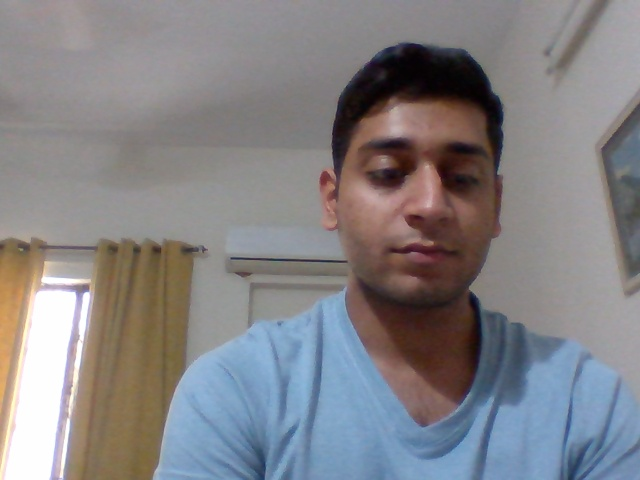neutral: (364, 98, 491, 314)
